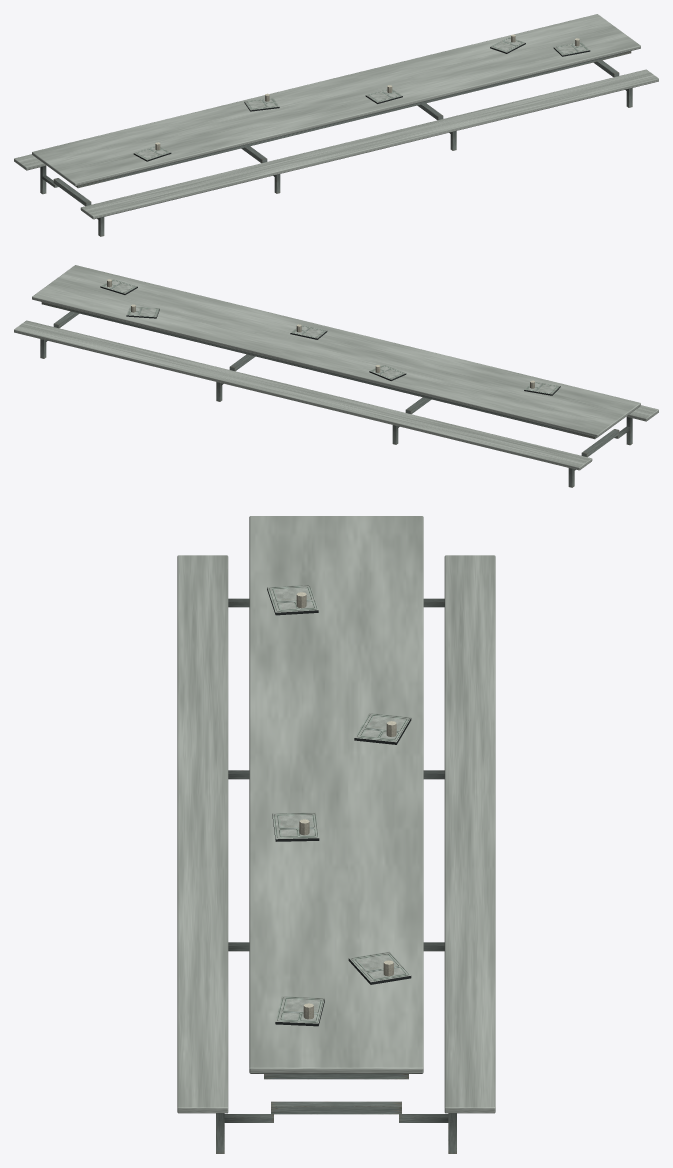
Rendered from mess_table.glb.
3 views of the same model, one above another, from view 1: azimuth 30°, elevation 25°; view 2: azimuth 150°, elevation 25°; view 3: azimuth 270°, elevation 25° (orthographic). The views are drawn at different scales.
Parts seen in each view (by area): view 1: MessTable; view 2: MessTable; view 3: MessTable.
Part boxes in pixels (x1,y1,x2,y2): MessTable: (14, 14, 658, 236); MessTable: (14, 265, 658, 487); MessTable: (177, 516, 495, 1153).
Size of the model in its own units: 9 by 0.89 by 2.19.
Materials: 1 (1 with a texture image).
